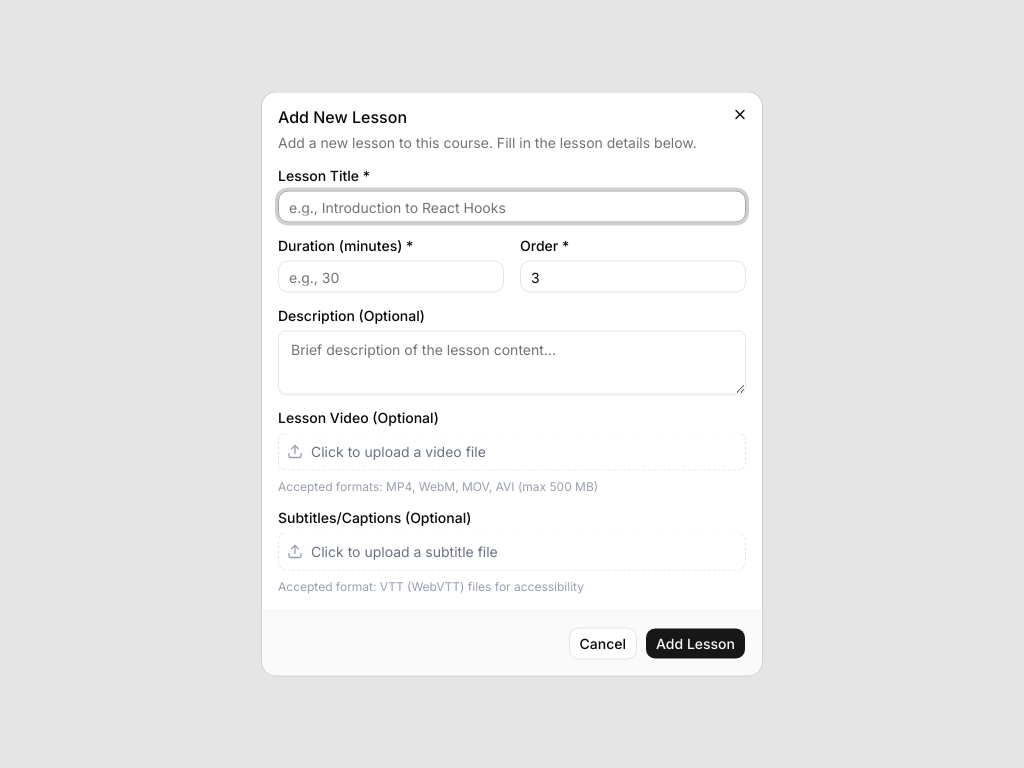
Scenario: AddLessonDialog › shows loading state while submitting
Type "Loading Lesson" into the field labelled "Lesson Title *" at (512, 206), box [278, 190, 746, 222]
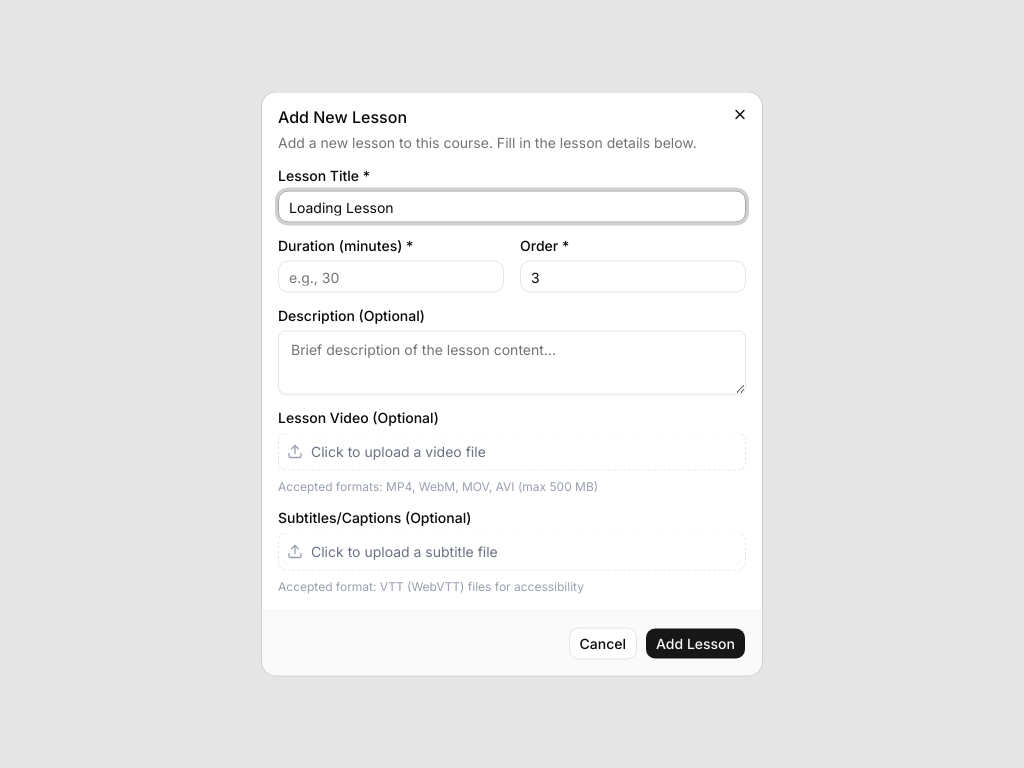
Type "20" into the number field labelled "Duration (minutes) *" at (391, 276), box [278, 260, 504, 292]
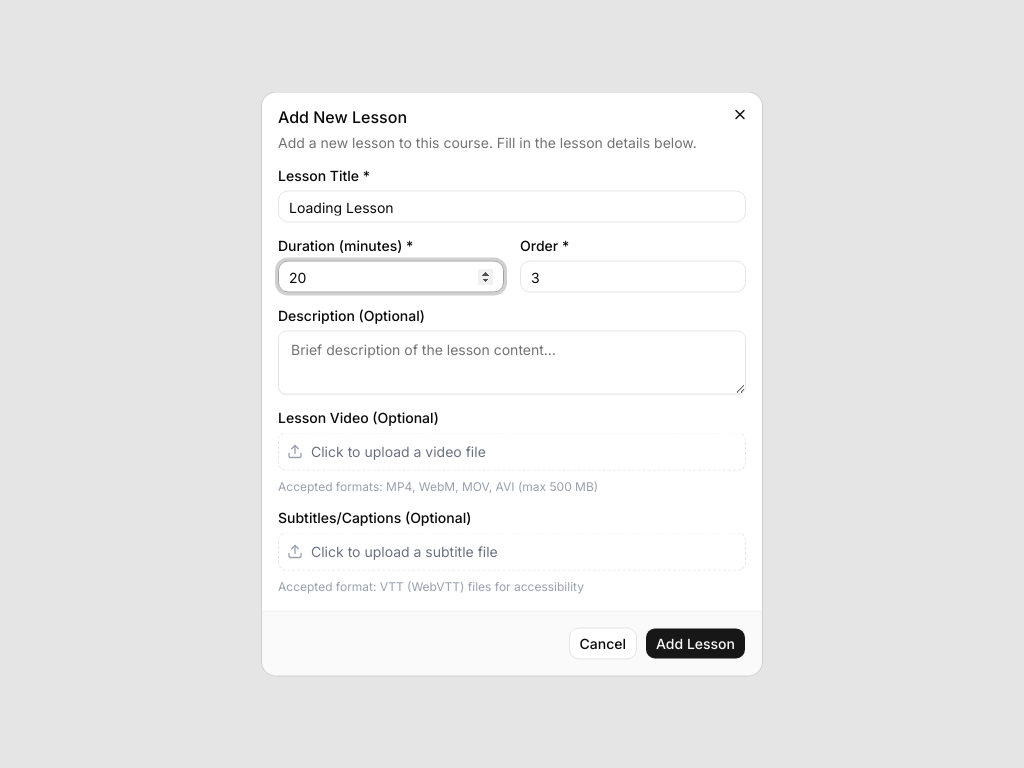
Click the button "Add Lesson" at (696, 644), box [645, 628, 746, 660]
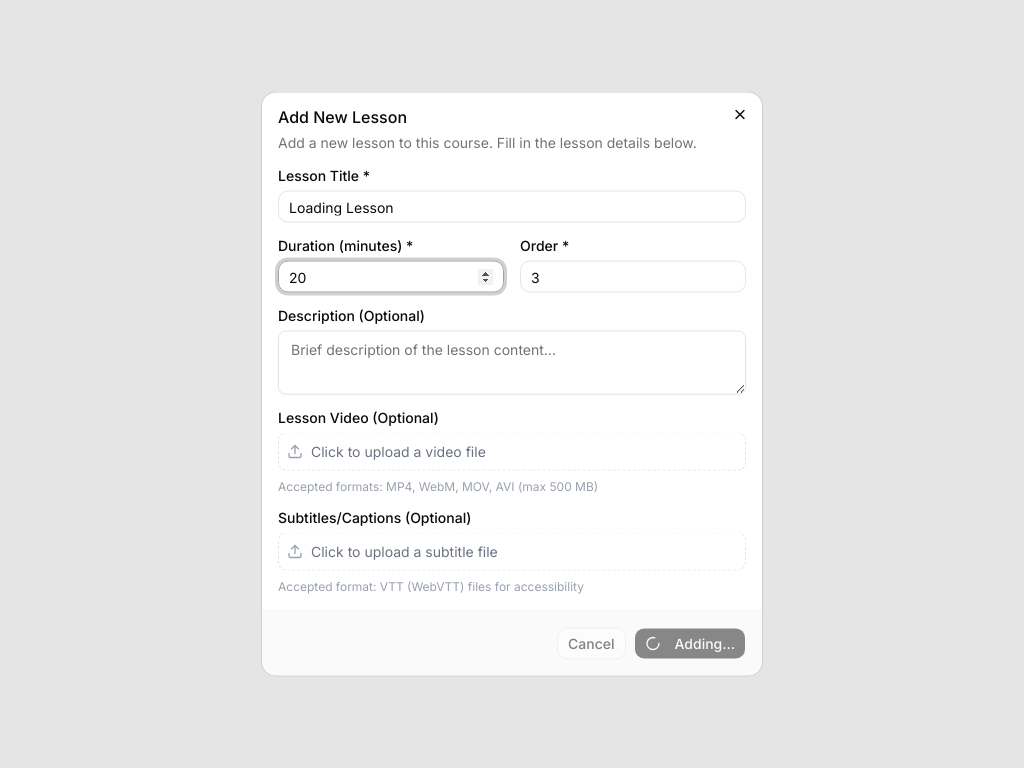
Now the button "Adding..." is shown, box [634, 628, 746, 660]
